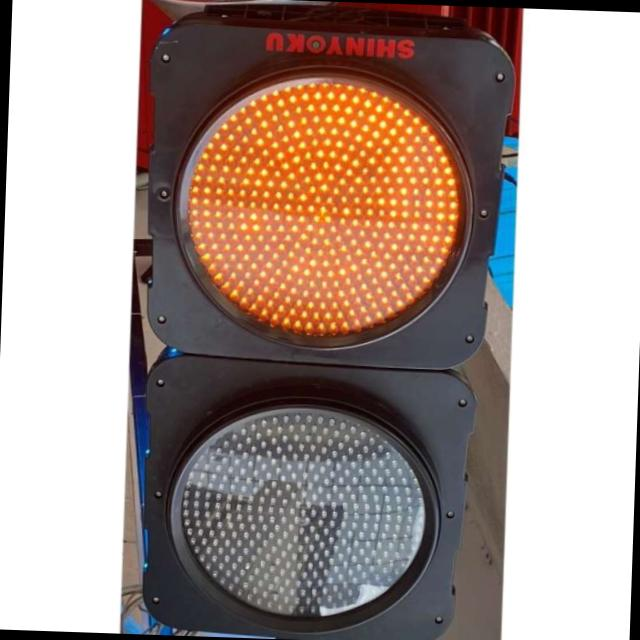yellow-lights: (170, 64, 478, 356)
